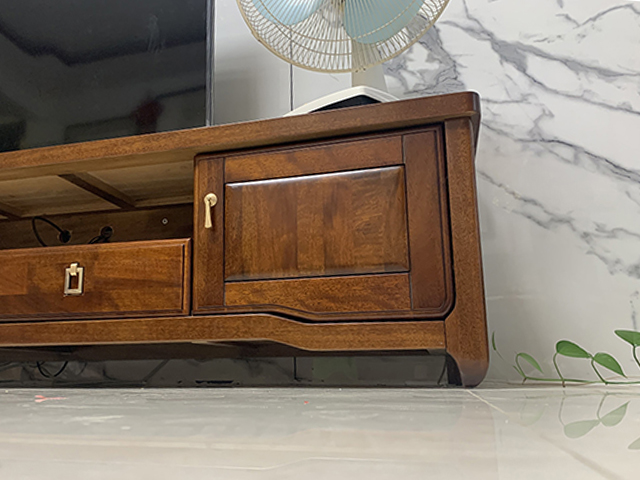cabinet: (1, 90, 490, 388)
